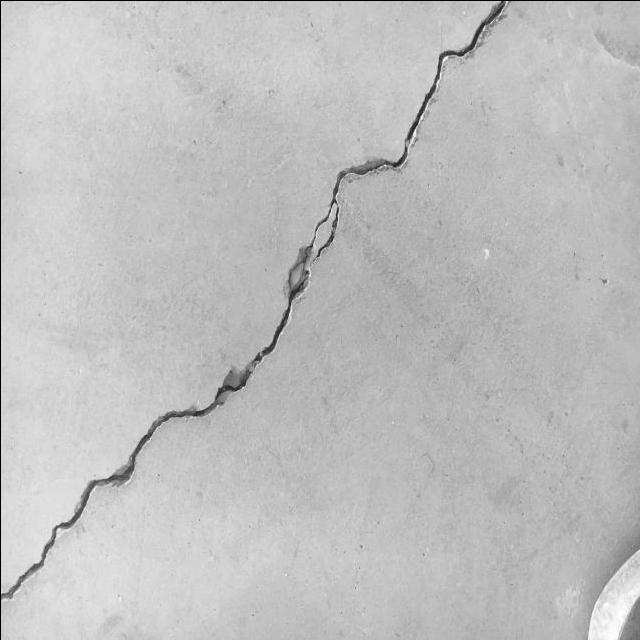SurfaceCrack: (0, 0, 570, 638)
